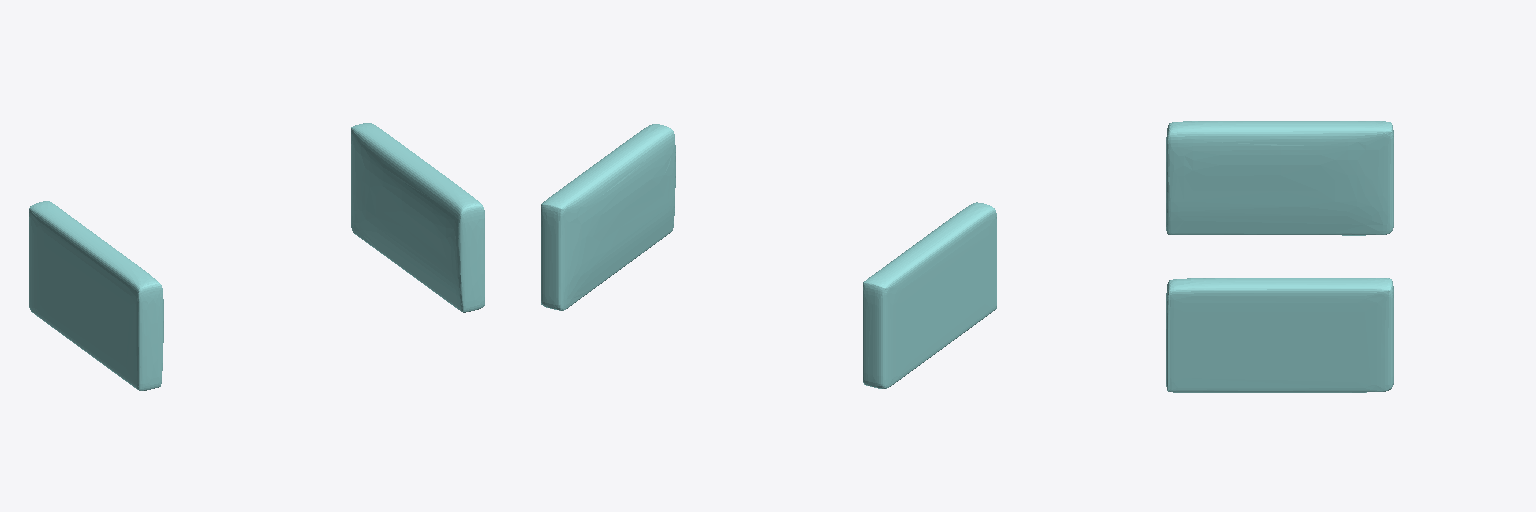
The model's file is fm1_design1_hands2.obj.
The picture shows the model from 3 angles: view 1: azimuth 30°, elevation 25°; view 2: azimuth 150°, elevation 25°; view 3: azimuth 270°, elevation 25°; orthographic projection.
Visible parts, largest first — view 1: Box550; view 2: Box550; view 3: Box550.
Part boxes in pixels (x1,y1,x2,y2): Box550: (29, 123, 484, 390); Box550: (541, 124, 996, 388); Box550: (1166, 121, 1393, 392).
Bounding box in the file's own units: 1499 × 444 × 855.